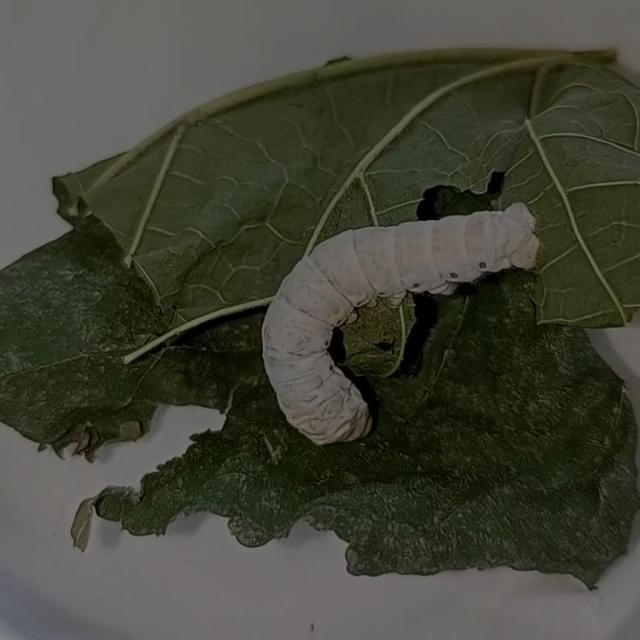Healthy: (242, 177, 560, 466)
